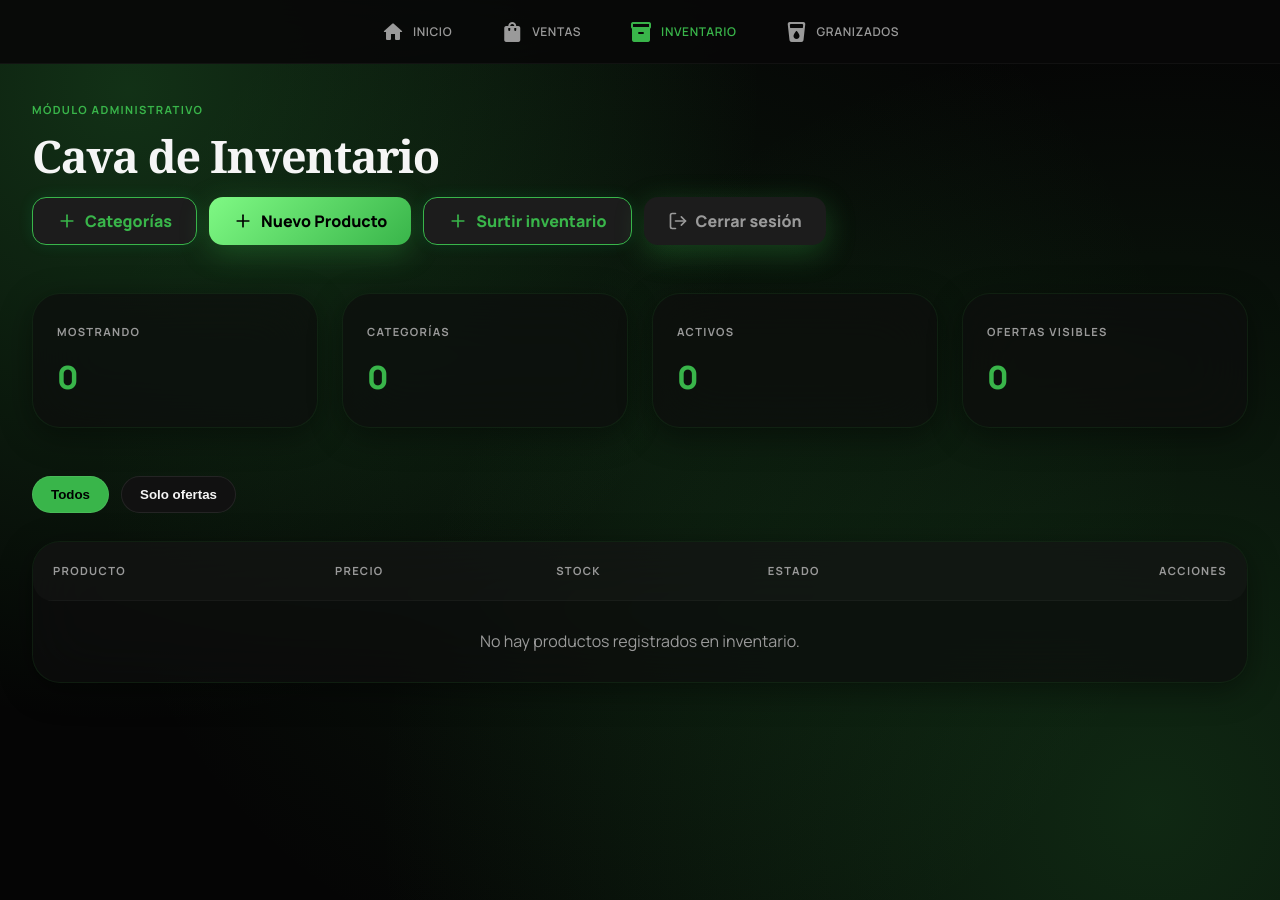
it: InventoryAdminPage ofertas › quita una oferta y refresca la vista Solo ofertas
Click the button "Solo ofertas" at [178, 494], box 121,476 -> 236,513
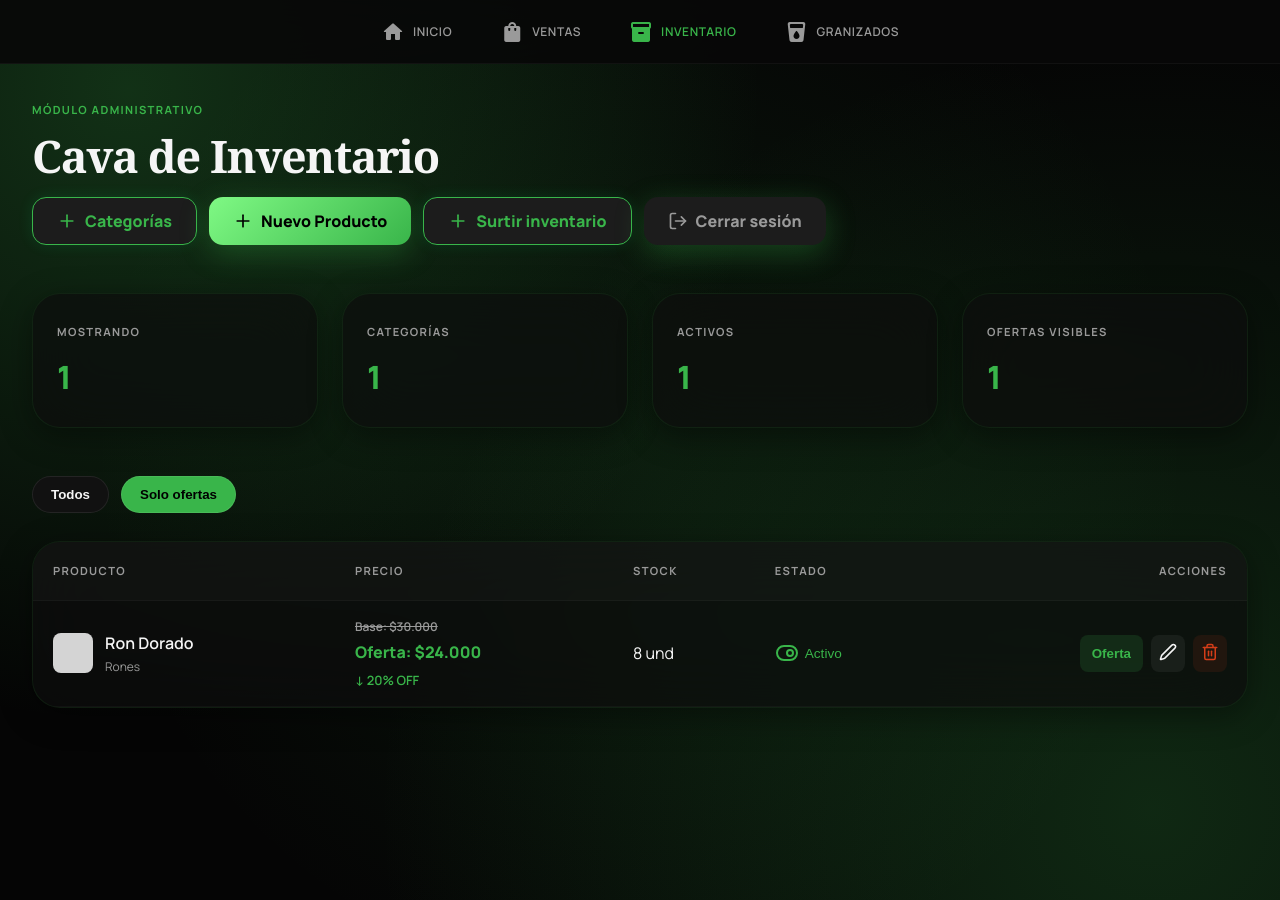
Result: the text "Ron Dorado" is shown at 105,631 -> 194,657
Click the button "Oferta" at [1111, 653], box 1080,635 -> 1143,672
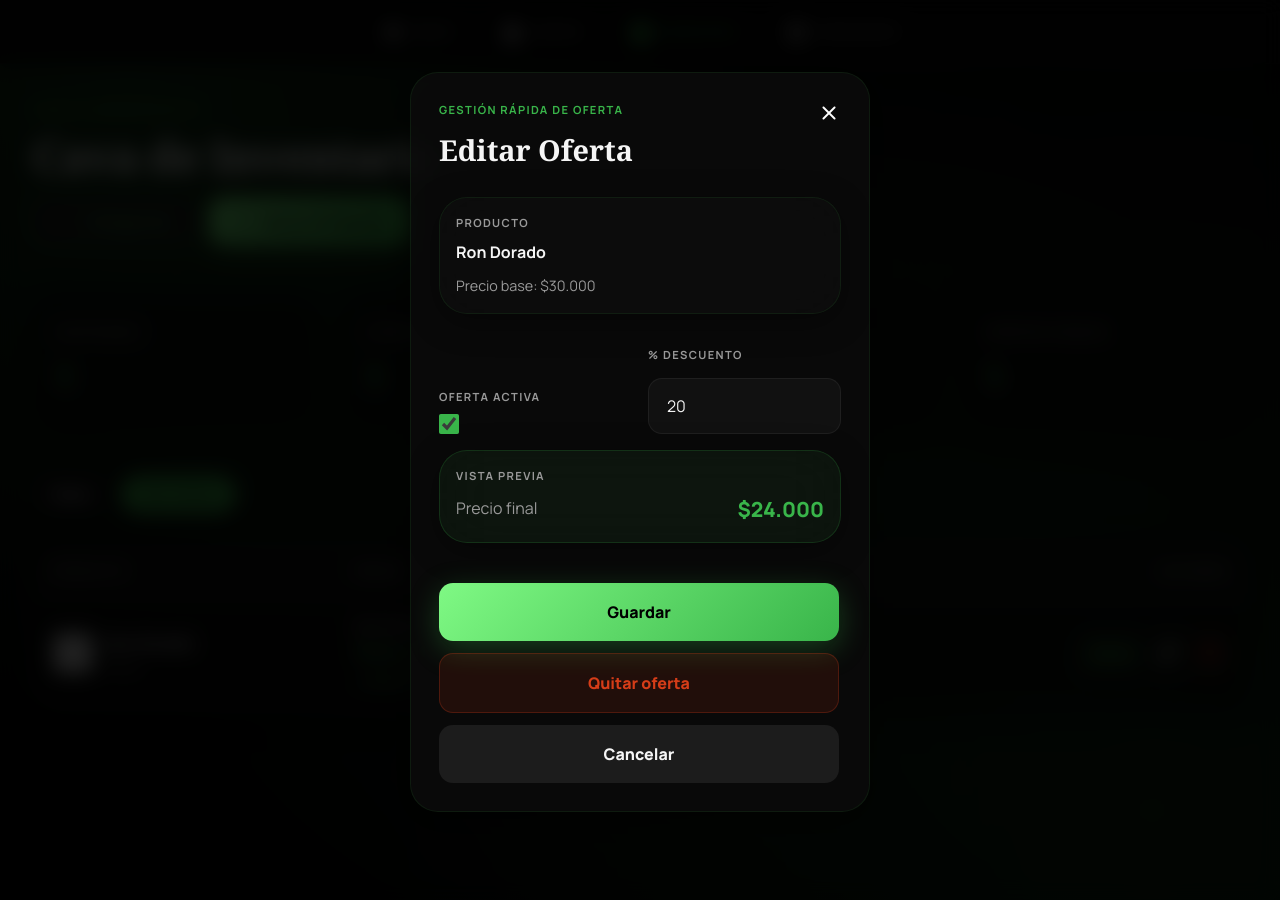
Click the button "Quitar oferta" at [639, 683], box 439,653 -> 839,713
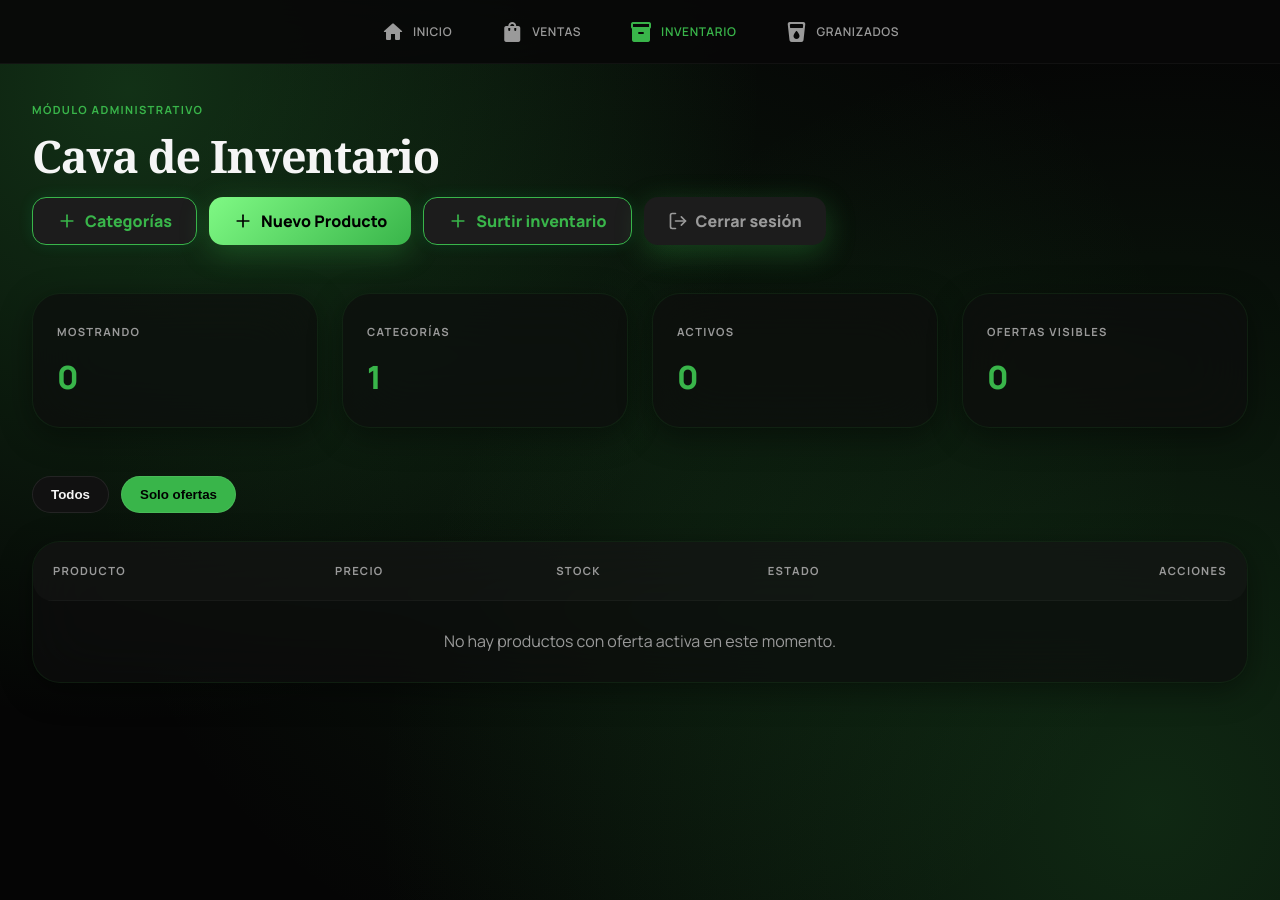
Result: the text "No hay productos con oferta activa en este momento." is shown at 444,630 -> 836,652
